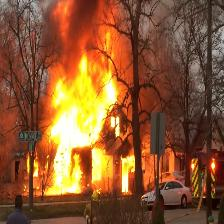fire: (53, 69, 121, 196)
smoke: (56, 1, 122, 55)
